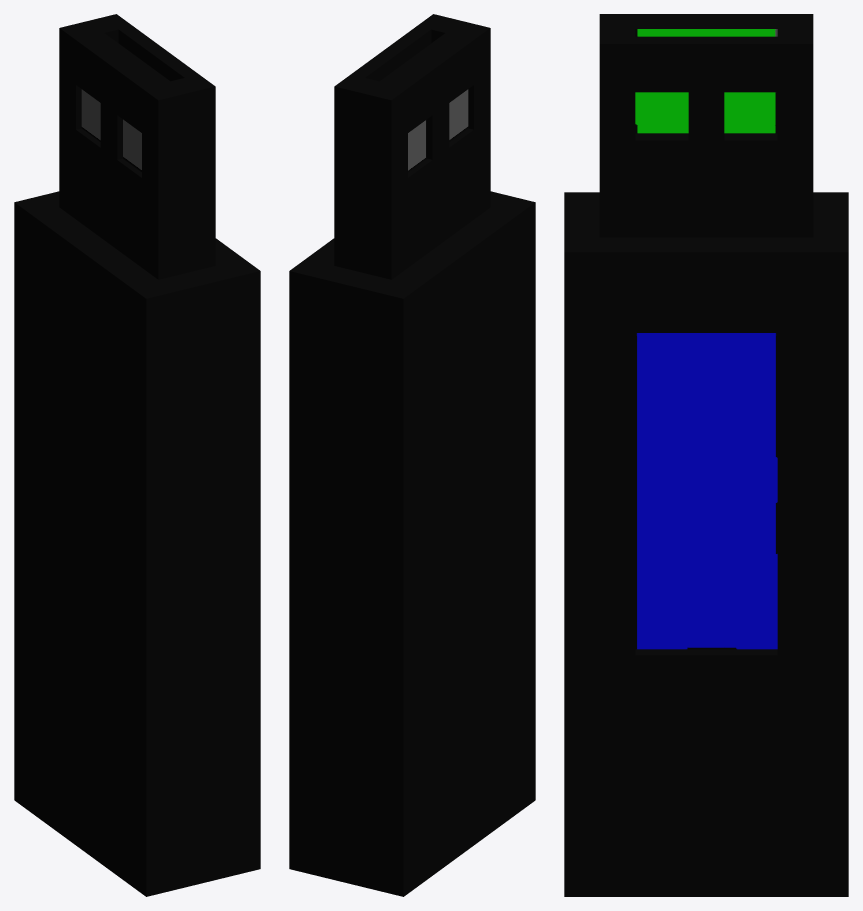
File: usb.fbx
The picture shows the model from 3 angles, left to right: view 1: azimuth 30°, elevation 25°; view 2: azimuth 150°, elevation 25°; view 3: azimuth 270°, elevation 25°; orthographic projection. The views are drawn at different scales.
Visible parts, largest first — view 1: Cube; view 2: Cube; view 3: Cube.
Boxes of the visible parts, box(x1,y1,x2,y2) form: Cube: box(14, 14, 260, 896); Cube: box(289, 14, 535, 896); Cube: box(564, 14, 848, 896).
Bounding box in the file's own units: 200 × 1300 × 400.
1 material, 1 textured.
